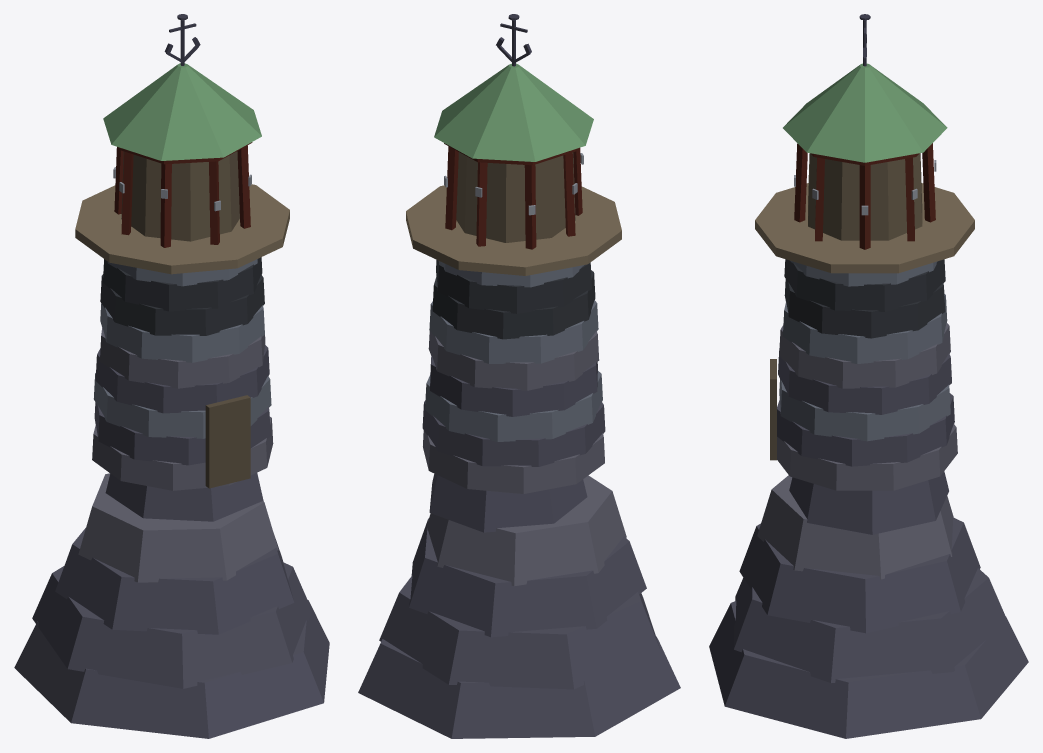
The model's file is wrack_light.glb.
The picture shows the model from 3 angles, left to right: view 1: azimuth 30°, elevation 25°; view 2: azimuth 150°, elevation 25°; view 3: azimuth 270°, elevation 25°; orthographic projection.
Parts seen in each view (by area): view 1: ink_l22, ink_l30, moss_l5, slate_d5, driftwood_d40, slate_d55, driftwood_d50, coal_d55, driftwood_d55, ink_l15; view 2: ink_l22, ink_l30, slate_d5, moss_l5, driftwood_d40, slate_d55, driftwood_d50, coal_d55, ink_l15; view 3: ink_l22, ink_l30, slate_d5, moss_l5, driftwood_d40, slate_d55, driftwood_d50, coal_d55, driftwood_d55.
Boxes of the visible parts, bbox=[...] form: ink_l22: bbox=[14, 345, 329, 738]; ink_l30: bbox=[78, 327, 278, 582]; moss_l5: bbox=[103, 63, 261, 160]; slate_d5: bbox=[93, 259, 271, 438]; driftwood_d40: bbox=[75, 184, 289, 274]; slate_d55: bbox=[100, 257, 264, 335]; driftwood_d50: bbox=[121, 151, 239, 241]; coal_d55: bbox=[114, 142, 252, 247]; driftwood_d55: bbox=[205, 395, 250, 488]; ink_l15: bbox=[164, 14, 200, 65]; ink_l22: bbox=[358, 355, 680, 738]; ink_l30: bbox=[423, 331, 626, 586]; slate_d5: bbox=[425, 262, 602, 441]; moss_l5: bbox=[434, 63, 593, 161]; driftwood_d40: bbox=[406, 185, 621, 275]; slate_d55: bbox=[432, 259, 595, 339]; driftwood_d50: bbox=[456, 152, 575, 242]; coal_d55: bbox=[444, 143, 582, 249]; ink_l15: bbox=[496, 14, 531, 66]; ink_l22: bbox=[709, 348, 1028, 738]; ink_l30: bbox=[757, 323, 957, 579]; slate_d5: bbox=[779, 260, 950, 441]; moss_l5: bbox=[783, 63, 947, 162]; driftwood_d40: bbox=[755, 183, 974, 273]; slate_d55: bbox=[784, 259, 945, 338]; driftwood_d50: bbox=[808, 153, 922, 240]; coal_d55: bbox=[794, 143, 935, 249]; driftwood_d55: bbox=[770, 359, 776, 460].
Size of the model in its own units: 4.65 by 10.51 by 4.65.
